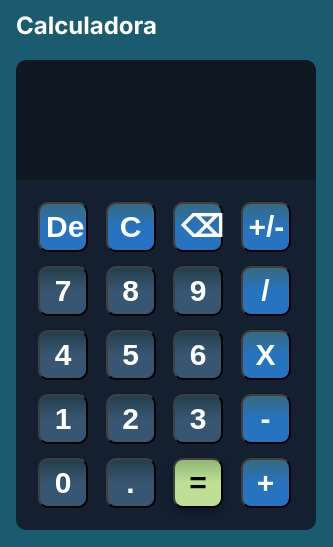
Test case: test-sum-consecutive
Click the button "2" at (130,419), box [106,394,156,444]
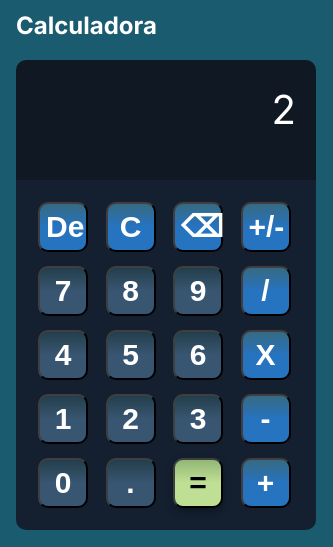
Click the button "+" at (266,483), box [240,458,290,508]
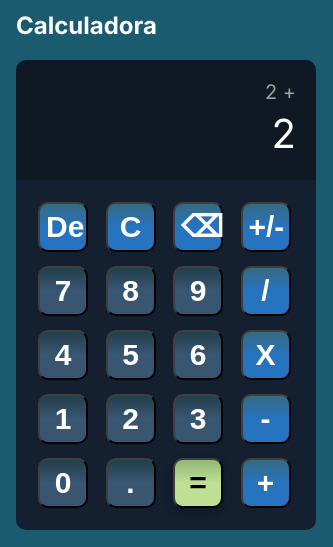
Click the button "7" at (63,291), box [38,266,88,316]
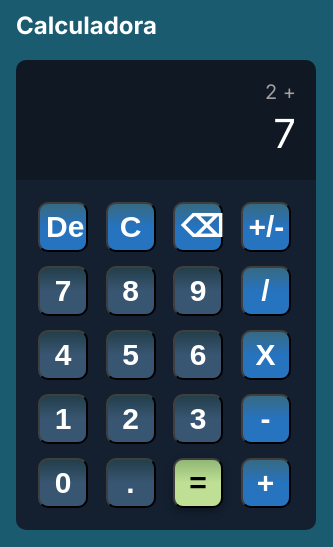
Click the button "+" at (266,483), box [240,458,290,508]
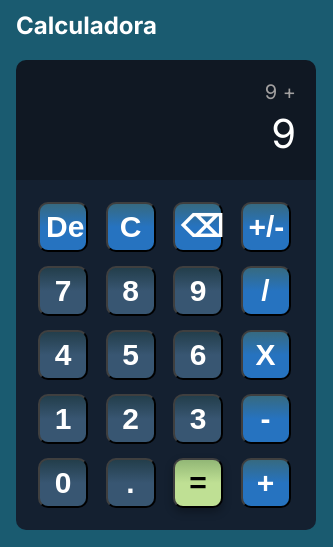
Click the button "2" at (130,419), box [106,394,156,444]
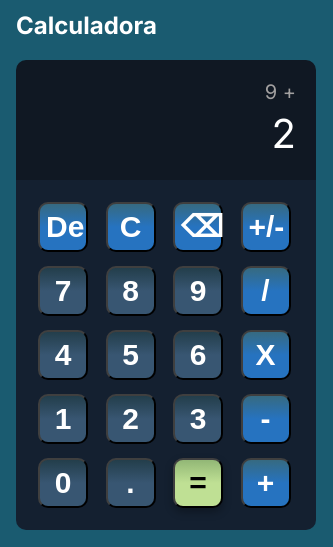
Click the button "=" at (198,483), box [173,458,223,508]
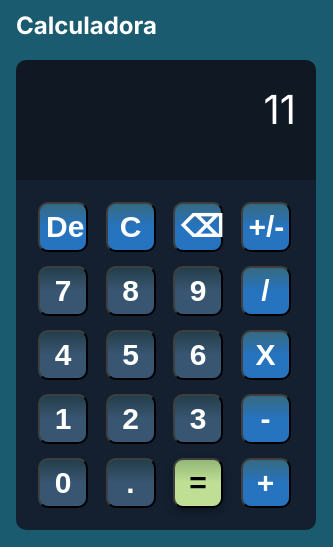
Now the text with test id "resultado" reads "11", box [264,85,296,134]
